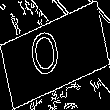O_S: (37, 24, 73, 86)
